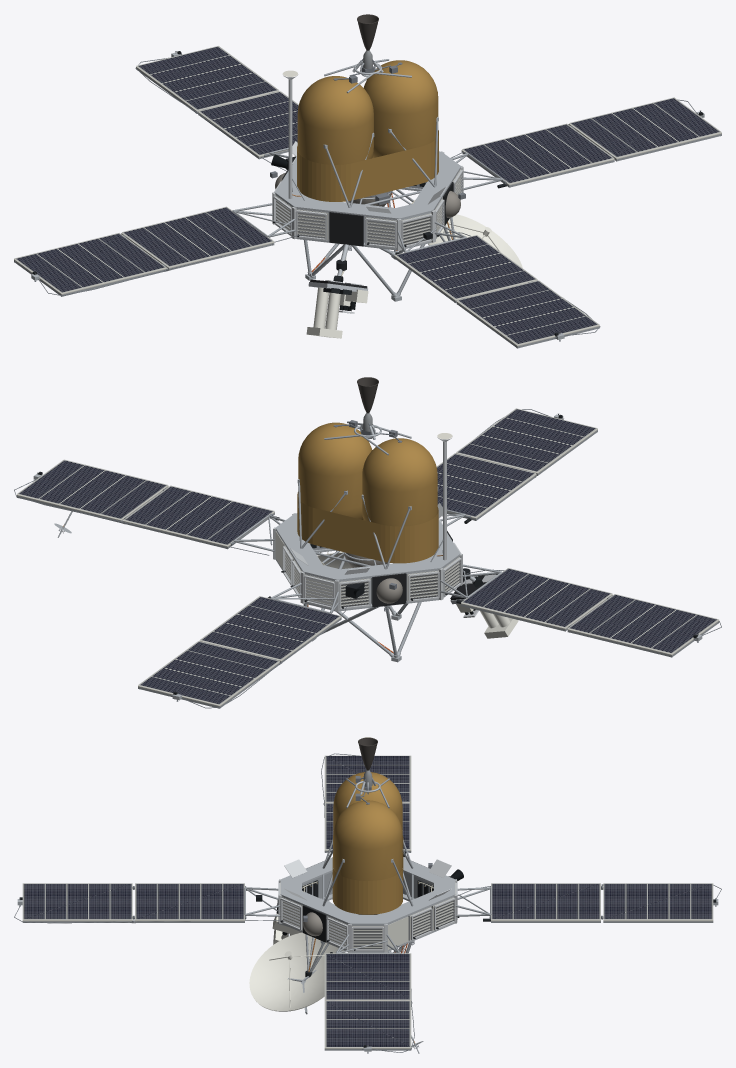
File: viking2-orbiter.glb
3 views of the same model, one above another, from view 1: azimuth 30°, elevation 25°; view 2: azimuth 150°, elevation 25°; view 3: azimuth 270°, elevation 25° (orthographic). The views are drawn at different scales.
Parts seen in each view (by area): view 1: VO2_PM_THERMAL_BLANKET, VO2_WING_PX_SUBPANEL_OUT_CELLS, VO2_WING_NZ_SUBPANEL_OUT_CELLS, VO2_WING_NX_SUBPANEL_OUT_CELLS, VO2_WING_PZ_SUBPANEL_OUT_CELLS, VO2_WING_NX_SUBPANEL_IN_CELLS, VO2_WING_PZ_SUBPANEL_IN_CELLS, VO2_WING_PX_SUBPANEL_IN_CELLS, VO2_WING_NZ_SUBPANEL_IN_CELLS, VO2_BUS_RINGS, VO2_VIS_CAMERAS, VO2_HGA_REFLECTOR (+14 smaller); view 2: VO2_PM_THERMAL_BLANKET, VO2_WING_PX_SUBPANEL_OUT_CELLS, VO2_WING_PZ_SUBPANEL_OUT_CELLS, VO2_WING_NX_SUBPANEL_OUT_CELLS, VO2_WING_NZ_SUBPANEL_OUT_CELLS, VO2_WING_NX_SUBPANEL_IN_CELLS, VO2_WING_NZ_SUBPANEL_IN_CELLS, VO2_WING_PX_SUBPANEL_IN_CELLS, VO2_WING_PZ_SUBPANEL_IN_CELLS, VO2_BUS_RINGS, VO2_VLCA_TRUSS, VO2_ENGINE_REA (+13 smaller); view 3: VO2_PM_THERMAL_BLANKET, VO2_HGA_REFLECTOR, VO2_WING_PX_SUBPANEL_IN_CELLS, VO2_WING_PX_SUBPANEL_OUT_CELLS, VO2_WING_PZ_SUBPANEL_OUT_CELLS, VO2_WING_NZ_SUBPANEL_OUT_CELLS, VO2_WING_PZ_SUBPANEL_IN_CELLS, VO2_WING_NZ_SUBPANEL_IN_CELLS, VO2_BUS_RINGS, VO2_WING_NX_SUBPANEL_OUT_CELLS, VO2_WING_NX_SUBPANEL_IN_CELLS, VO2_LOUVER_01 (+7 smaller).
Boxes of the visible parts, x1,y1,x2,y2 form: VO2_PM_THERMAL_BLANKET: (297,60,438,201); VO2_WING_PX_SUBPANEL_OUT_CELLS: (569,97,721,157); VO2_WING_NZ_SUBPANEL_OUT_CELLS: (136,46,278,110); VO2_WING_NX_SUBPANEL_OUT_CELLS: (14,233,166,293); VO2_WING_PZ_SUBPANEL_OUT_CELLS: (457,280,599,344); VO2_WING_NX_SUBPANEL_IN_CELLS: (122,206,273,266); VO2_WING_PZ_SUBPANEL_IN_CELLS: (395,235,537,299); VO2_WING_PX_SUBPANEL_IN_CELLS: (462,123,614,183); VO2_WING_NZ_SUBPANEL_IN_CELLS: (198,91,298,155); VO2_BUS_RINGS: (274,151,461,250); VO2_VIS_CAMERAS: (306,287,351,338); VO2_HGA_REFLECTOR: (428,214,522,268); VO2_PM_THERMAL_BLANKET: (297,422,438,563); VO2_WING_PX_SUBPANEL_OUT_CELLS: (17,459,167,519); VO2_WING_PZ_SUBPANEL_OUT_CELLS: (456,408,597,472); VO2_WING_NX_SUBPANEL_OUT_CELLS: (567,594,718,653); VO2_WING_NZ_SUBPANEL_OUT_CELLS: (138,641,279,705); VO2_WING_NX_SUBPANEL_IN_CELLS: (461,568,612,627); VO2_WING_NZ_SUBPANEL_IN_CELLS: (199,596,340,659); VO2_WING_PX_SUBPANEL_IN_CELLS: (123,485,274,545); VO2_WING_PZ_SUBPANEL_IN_CELLS: (436,453,535,517); VO2_BUS_RINGS: (275,513,460,611); VO2_VLCA_TRUSS: (303,556,421,657); VO2_ENGINE_REA: (357,377,378,439); VO2_PM_THERMAL_BLANKET: (332,772,403,914); VO2_HGA_REFLECTOR: (249,932,345,1014); VO2_WING_PX_SUBPANEL_IN_CELLS: (324,953,411,999); VO2_WING_PX_SUBPANEL_OUT_CELLS: (324,1001,411,1047); VO2_WING_PZ_SUBPANEL_OUT_CELLS: (22,883,132,919); VO2_WING_NZ_SUBPANEL_OUT_CELLS: (603,883,713,919); VO2_WING_PZ_SUBPANEL_IN_CELLS: (135,883,244,919); VO2_WING_NZ_SUBPANEL_IN_CELLS: (491,883,600,919); VO2_BUS_RINGS: (280,857,455,952); VO2_WING_NX_SUBPANEL_OUT_CELLS: (324,755,411,801); VO2_WING_NX_SUBPANEL_IN_CELLS: (324,803,411,849); VO2_LOUVER_01: (352,926,383,951).
Bounding box in the file's own units: 10.08 × 3.83 × 10.08.
22 materials, 1 textured.
